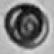correct: (5, 0, 50, 48)
